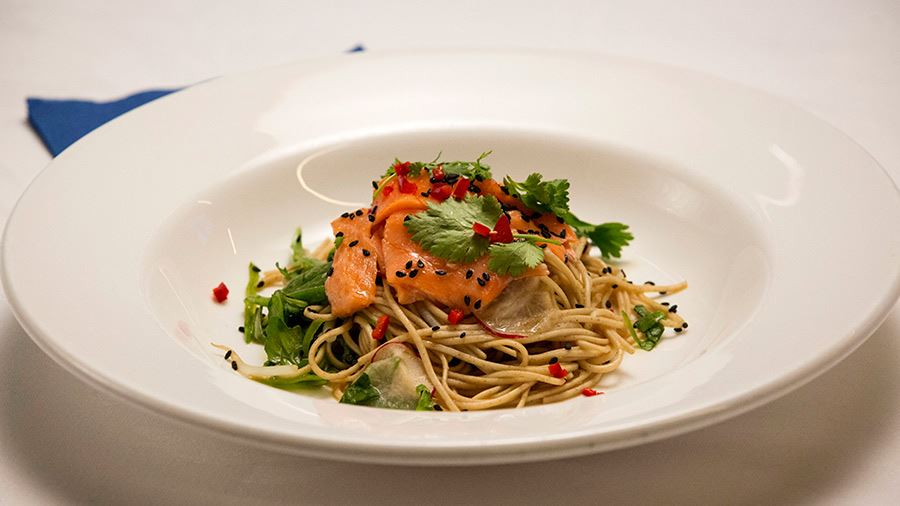Soba: (256, 154, 709, 409)
